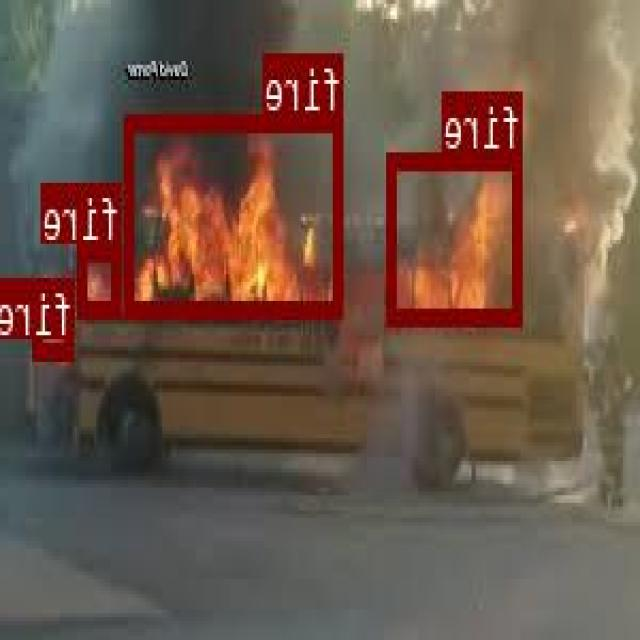fire: (127, 114, 346, 316), (390, 152, 525, 320), (36, 276, 76, 356), (80, 243, 123, 316)
